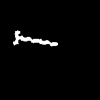half_double_crochet: (13, 31, 57, 45)
